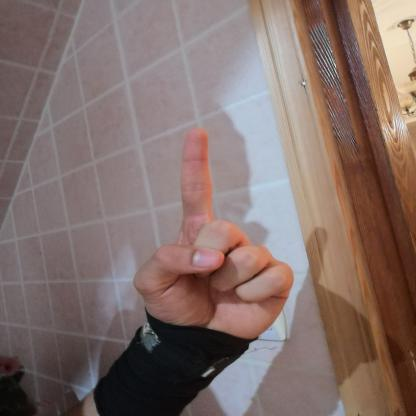BAA: (121, 119, 303, 346)
